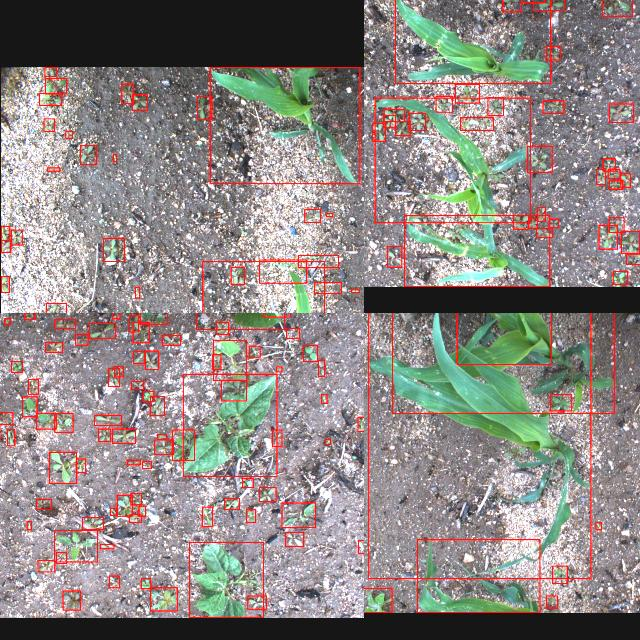crop: (368, 313, 590, 579), (391, 313, 613, 412), (374, 98, 530, 222), (209, 66, 359, 184), (394, 0, 550, 83), (404, 216, 548, 286), (182, 374, 276, 476), (417, 540, 539, 612), (202, 262, 323, 313), (189, 542, 263, 618), (456, 313, 550, 365), (196, 313, 284, 329)
weed: (54, 530, 96, 562), (212, 340, 245, 380), (258, 260, 306, 282), (281, 502, 315, 528), (48, 452, 76, 483), (526, 146, 552, 172), (364, 587, 391, 612), (172, 430, 194, 460), (150, 588, 177, 612), (102, 238, 124, 262), (220, 380, 246, 400), (297, 256, 337, 268), (602, 0, 632, 16), (608, 104, 634, 122), (454, 85, 478, 104), (620, 231, 640, 253), (598, 225, 616, 249), (88, 322, 115, 338), (460, 118, 492, 130), (549, 394, 571, 411), (196, 95, 212, 118), (54, 412, 72, 432), (44, 78, 66, 94), (386, 246, 402, 268), (112, 428, 134, 444), (314, 282, 341, 294), (62, 592, 80, 610), (132, 322, 148, 342), (116, 496, 132, 516), (35, 413, 55, 429), (532, 0, 563, 10), (542, 100, 564, 114), (80, 146, 96, 164), (487, 98, 503, 116), (408, 114, 426, 130), (383, 108, 403, 122), (149, 396, 163, 416), (22, 397, 36, 417), (144, 350, 158, 370), (139, 313, 166, 323), (247, 596, 266, 610), (39, 93, 61, 105), (94, 415, 120, 425), (435, 96, 451, 112), (394, 120, 410, 136), (302, 345, 318, 361), (154, 440, 172, 454), (258, 488, 276, 502), (81, 518, 102, 530), (285, 532, 303, 546), (552, 566, 566, 584), (121, 83, 133, 103), (304, 209, 320, 223), (132, 94, 146, 110), (612, 271, 628, 285), (608, 218, 624, 232), (512, 215, 528, 229), (54, 318, 76, 328), (372, 123, 384, 141), (501, 0, 520, 11), (230, 268, 243, 284), (37, 560, 54, 572), (45, 303, 65, 313), (202, 507, 212, 527), (108, 368, 119, 386), (545, 46, 559, 60), (162, 335, 180, 345), (44, 342, 61, 352), (271, 429, 281, 446), (42, 118, 54, 132), (10, 230, 22, 244), (383, 114, 395, 128), (98, 428, 110, 442), (536, 228, 552, 238), (28, 378, 38, 394), (128, 315, 138, 331), (626, 253, 640, 264), (224, 498, 238, 509), (602, 159, 614, 171), (216, 322, 228, 334), (248, 345, 260, 357), (0, 412, 12, 424), (132, 351, 144, 363), (0, 226, 10, 240), (620, 173, 630, 187), (608, 180, 622, 190), (285, 328, 299, 338), (36, 499, 50, 509), (75, 459, 85, 473), (142, 391, 154, 402), (1, 276, 9, 292), (6, 430, 14, 446), (212, 354, 220, 370), (44, 66, 56, 76), (0, 240, 10, 252), (75, 334, 87, 344), (10, 362, 22, 372), (356, 416, 364, 431), (245, 510, 255, 522), (56, 552, 66, 564), (109, 576, 119, 588), (546, 596, 556, 608), (596, 170, 604, 184), (537, 207, 545, 221), (130, 381, 144, 389), (548, 218, 558, 228), (242, 478, 252, 488), (140, 579, 150, 589), (130, 494, 140, 504), (607, 170, 619, 178), (318, 360, 324, 376), (129, 515, 141, 523), (357, 540, 364, 553), (99, 544, 113, 550), (528, 218, 536, 228), (114, 366, 122, 376), (134, 286, 140, 298), (64, 130, 72, 138), (320, 394, 326, 404), (24, 313, 34, 319), (138, 506, 144, 516), (126, 460, 140, 464), (157, 434, 166, 440), (142, 462, 150, 468), (110, 508, 116, 516), (111, 313, 119, 318), (4, 318, 10, 324), (275, 366, 281, 372), (112, 154, 116, 162), (26, 522, 30, 530), (596, 522, 600, 530), (46, 168, 60, 170), (324, 440, 330, 444), (350, 290, 360, 292), (326, 214, 332, 216)
